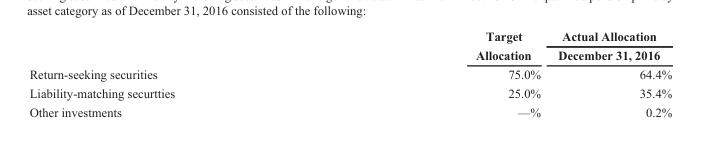table: (28, 28, 671, 118)
table column: (28, 28, 324, 118), (324, 28, 548, 118), (548, 28, 671, 118)
table column header: (28, 28, 671, 64)
table row: (28, 28, 671, 64), (28, 64, 671, 83), (28, 83, 671, 102), (28, 102, 671, 118)
